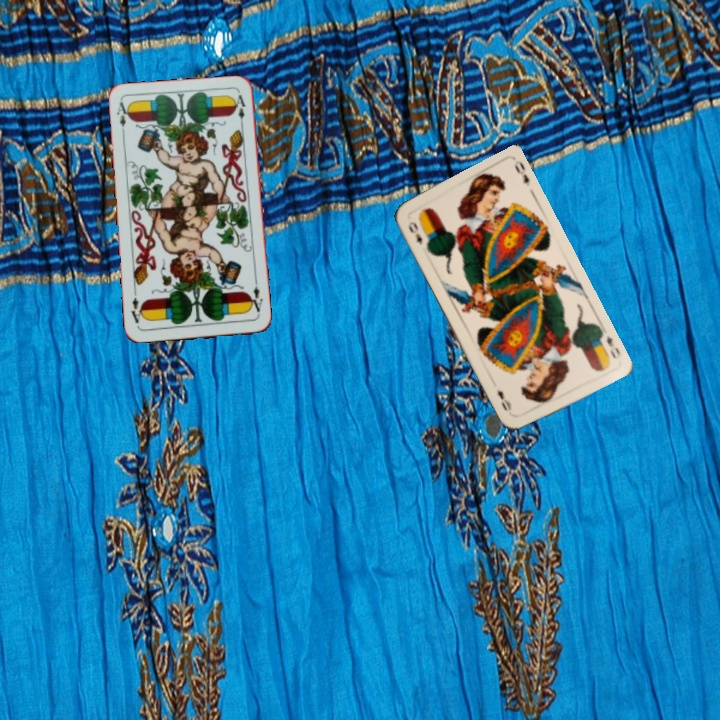EA: (246, 278, 265, 318), (113, 98, 132, 138)
EO: (404, 217, 425, 247), (602, 331, 623, 361)
